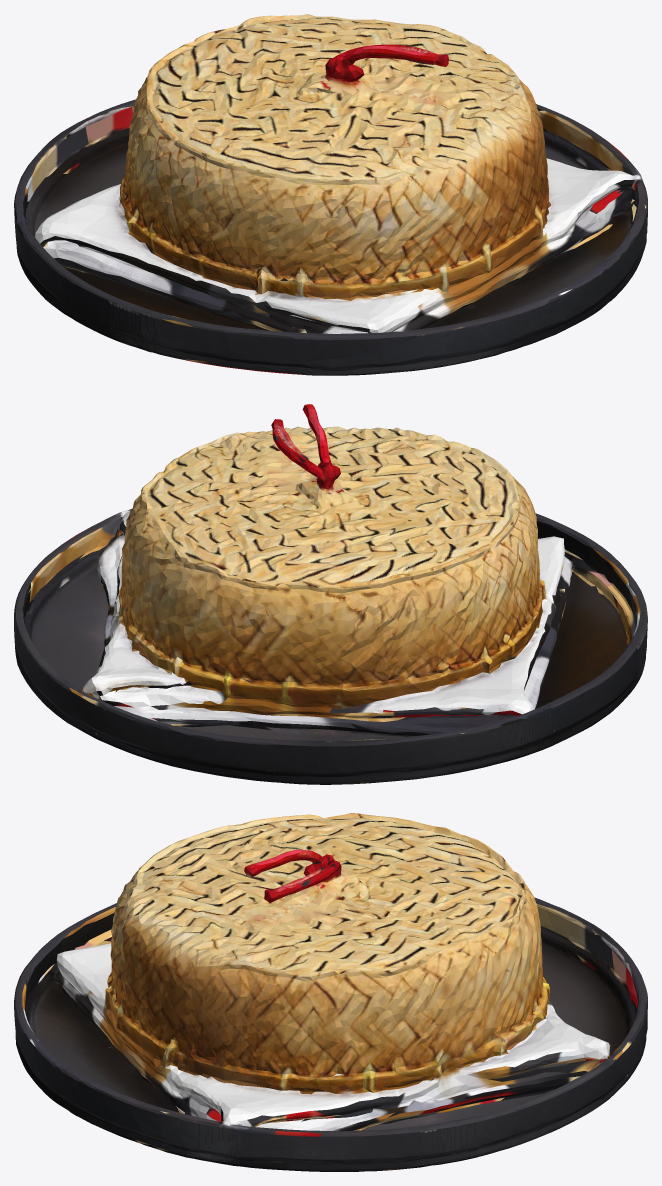
The model's file is traveler_env_coast_kudo_bamboo_food_cover_00001_.glb.
The picture shows the model from 3 angles, top to bottom: view 1: azimuth 30°, elevation 25°; view 2: azimuth 150°, elevation 25°; view 3: azimuth 270°, elevation 25°; orthographic projection.
Visible parts, largest first — view 1: temp_mesh.ply; view 2: temp_mesh.ply; view 3: temp_mesh.ply.
Boxes of the visible parts, x1,y1,x2,y2 form: temp_mesh.ply: [14, 14, 647, 375]; temp_mesh.ply: [14, 404, 647, 784]; temp_mesh.ply: [14, 813, 647, 1171].
Size of the model in its own units: 1.97 by 0.7077 by 1.97.
Materials: 1 (1 with a texture image).
